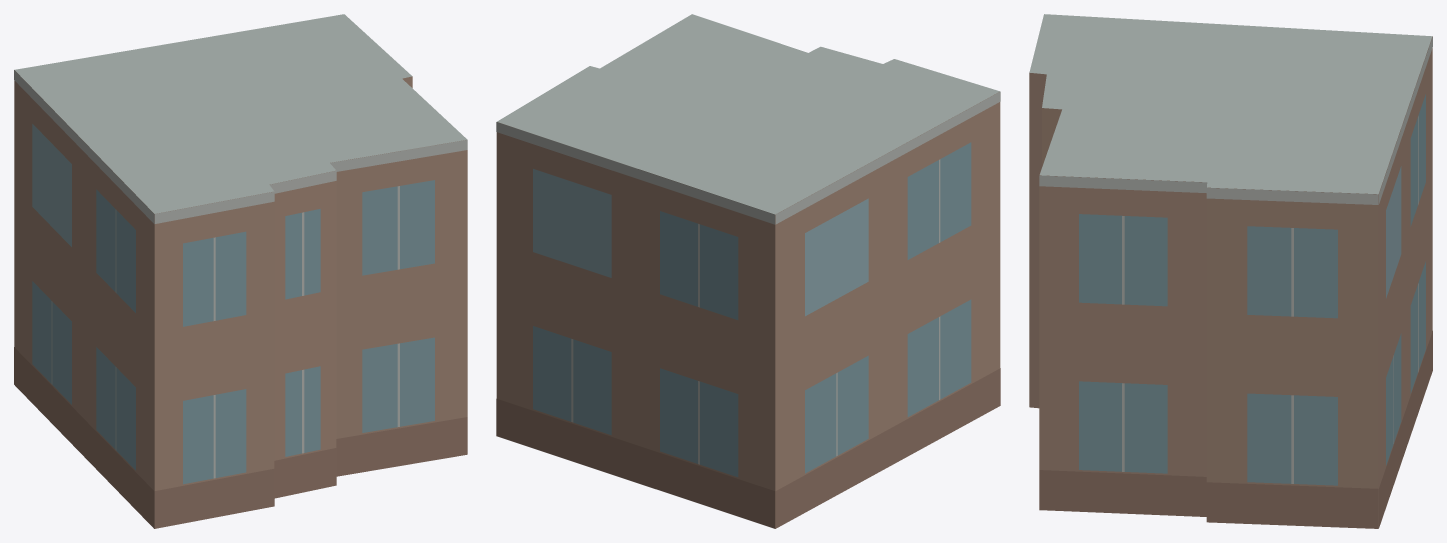
File: survey-upis-32546535.glb
3 views of the same model, side by side, from view 1: azimuth 30°, elevation 25°; view 2: azimuth 150°, elevation 25°; view 3: azimuth 270°, elevation 25° (orthographic). The views are drawn at different scales.
Visible parts, largest first — view 1: survey-upis-32546535.tmp; view 2: survey-upis-32546535.tmp; view 3: survey-upis-32546535.tmp.
Part boxes in pixels (<box>): survey-upis-32546535.tmp: <box>14,14,467,528</box>; survey-upis-32546535.tmp: <box>496,14,1000,528</box>; survey-upis-32546535.tmp: <box>1029,14,1432,528</box>.
Size of the model in its own units: 8.67 by 7.5 by 8.2.
